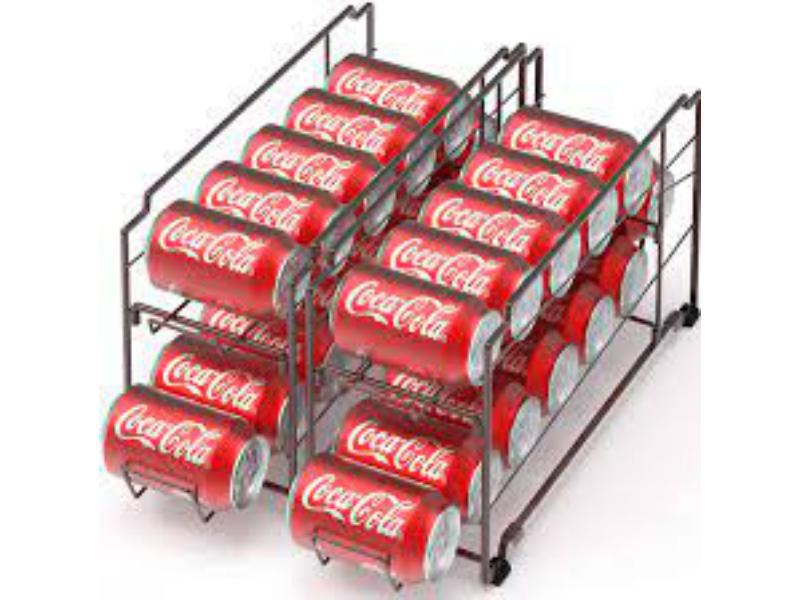can: (278, 445, 471, 590), (93, 374, 270, 519), (320, 257, 514, 385), (143, 192, 318, 322), (324, 393, 507, 500), (368, 212, 548, 316), (413, 171, 588, 270), (455, 126, 630, 225), (186, 153, 363, 249), (145, 329, 306, 429), (231, 115, 400, 209), (315, 43, 481, 128), (375, 370, 544, 450), (278, 83, 433, 164), (492, 103, 657, 173), (583, 286, 616, 372), (612, 246, 653, 303), (551, 341, 579, 412)
